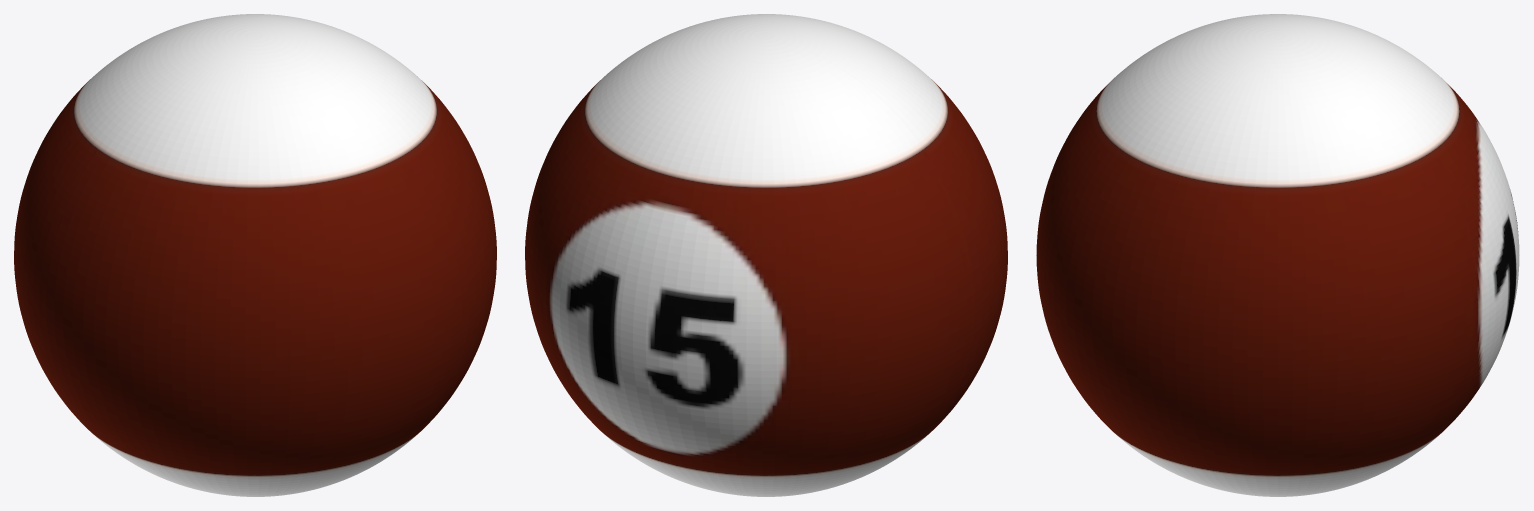
File: FifteenBall.obj
The picture shows the model from 3 angles, left to right: view 1: azimuth 30°, elevation 25°; view 2: azimuth 150°, elevation 25°; view 3: azimuth 270°, elevation 25°; orthographic projection.
Visible parts, largest first — view 1: Sphere; view 2: Sphere; view 3: Sphere.
Part boxes in pixels (bbox=[...]): Sphere: bbox=[14, 14, 496, 496]; Sphere: bbox=[525, 14, 1007, 496]; Sphere: bbox=[1036, 14, 1519, 496].
Bounding box in the file's own units: 2 × 2 × 2.
